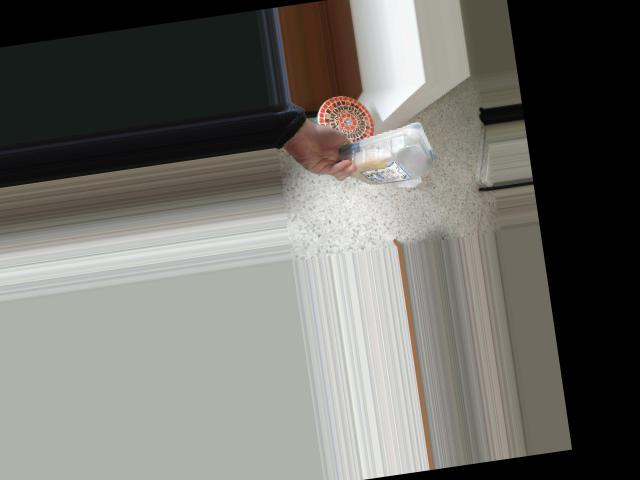cheese: (339, 124, 439, 189)
